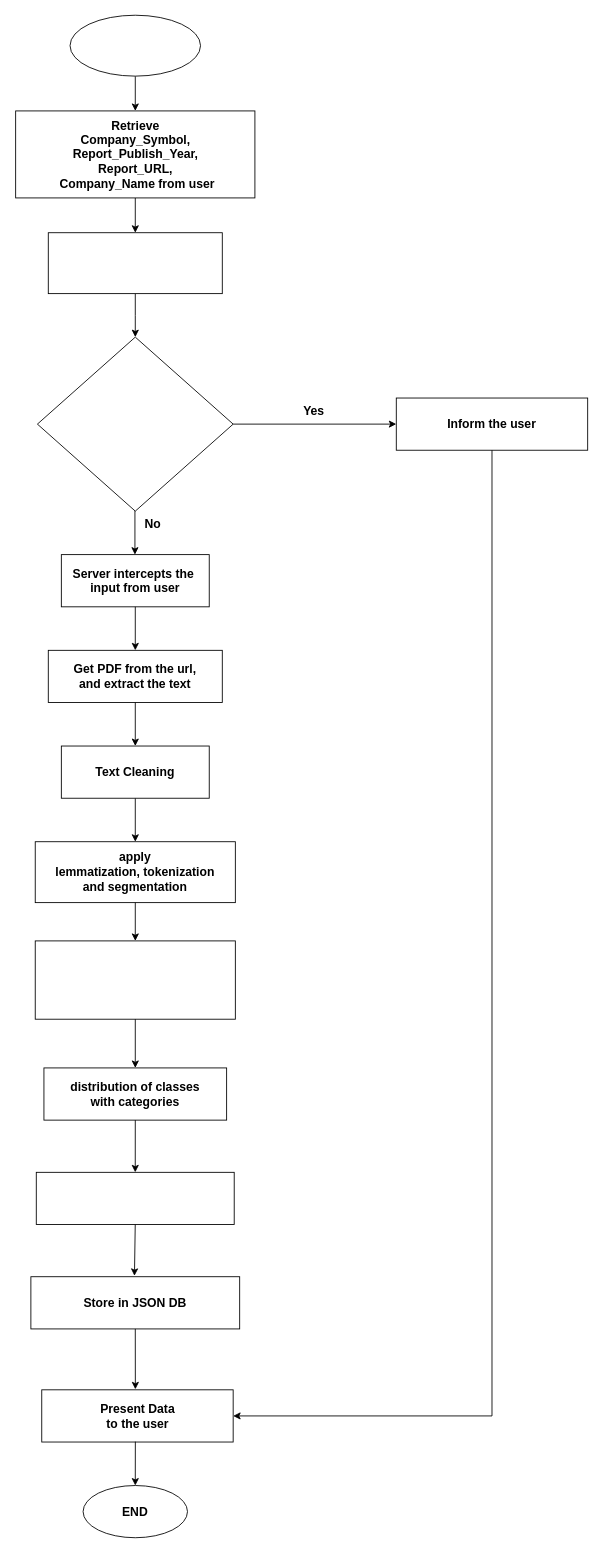
Image size: 603x1553. Some labels were removed from this diagram. Each missing label, with the box of its shape:
Company_symbol with same Publish_Year already processed?: (37, 336, 233, 511)
ESG-BERT model generates the scores based on analysis of text: (34, 940, 235, 1019)
Generate the ESG scores, based on distributions: (35, 1171, 234, 1225)
START: (69, 14, 201, 76)
Using API, transfer the data to backend: (47, 232, 222, 294)
